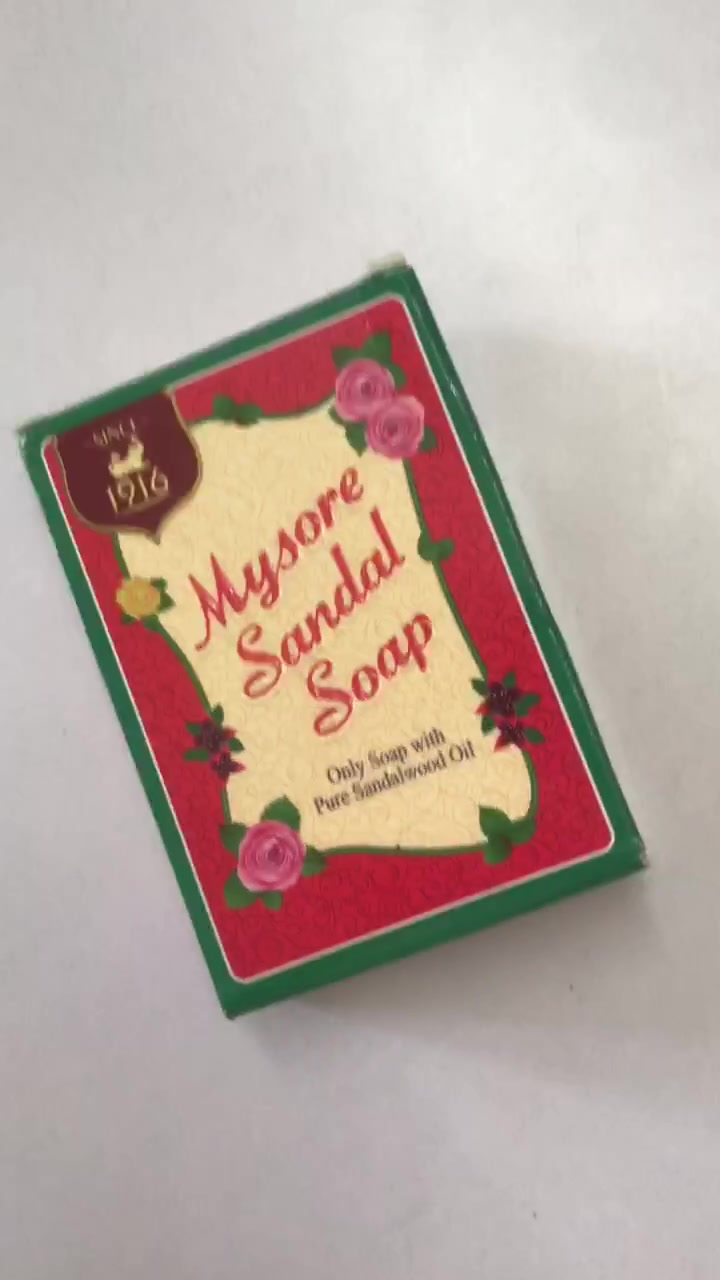mysore sandal soap: (17, 256, 645, 1025)
